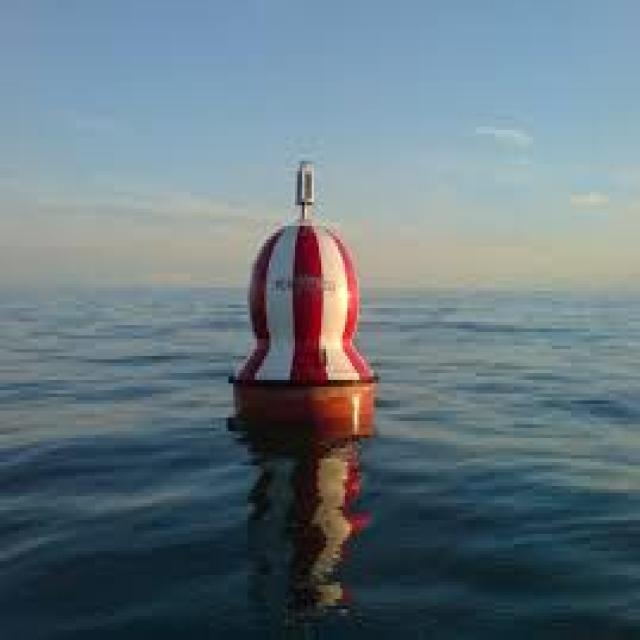2.4 safe water mark: (216, 120, 392, 404)
